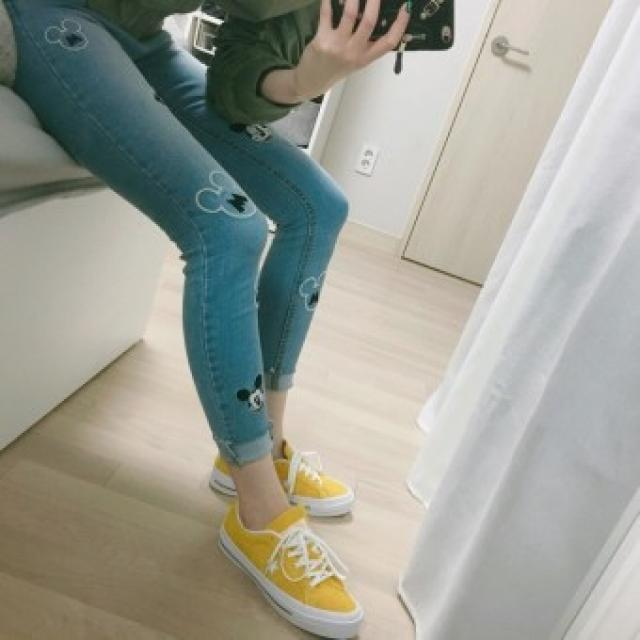no-boots: (211, 503, 373, 638), (222, 431, 369, 525)
